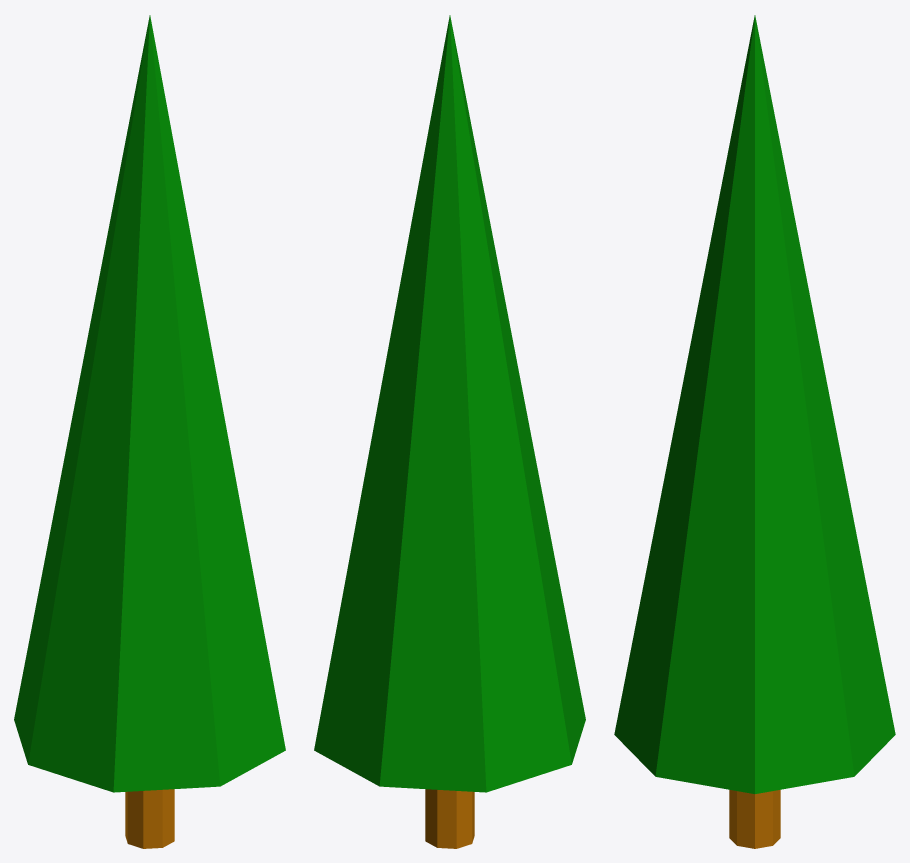
Rendered from Tree 2.fbx.
3 renders of one model, left to right at view 1: azimuth 30°, elevation 25°; view 2: azimuth 150°, elevation 25°; view 3: azimuth 270°, elevation 25°, orthographic.
Parts seen in each view (by area): view 1: Tree 2; view 2: Tree 2; view 3: Tree 2.
Boxes of the visible parts, <box> form: Tree 2: <box>14,15,285,848</box>; Tree 2: <box>314,15,585,848</box>; Tree 2: <box>614,15,895,848</box>.
Size of the model in its own units: 220 by 711 by 220.
